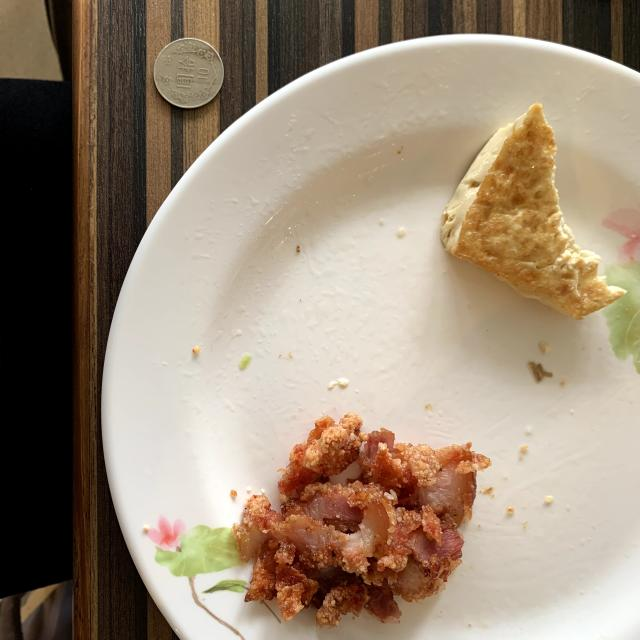coin: (154, 38, 224, 109)
red grilled pork: (234, 412, 491, 628)
